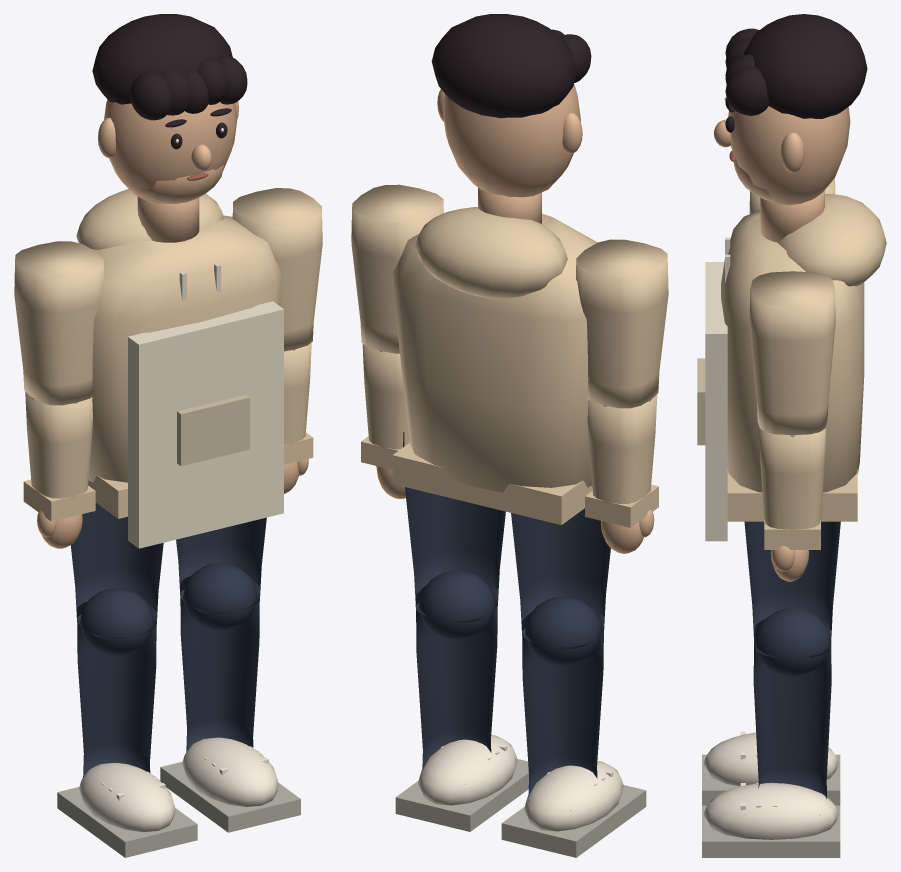
The model's file is employee.glb.
The picture shows the model from 3 angles, left to right: view 1: azimuth 30°, elevation 25°; view 2: azimuth 150°, elevation 25°; view 3: azimuth 270°, elevation 25°; orthographic projection. The views are drawn at different scales.
Parts seen in each view (by area): view 1: Apron, Hoodie, Upper sleeve, Trouser shin.001, Trouser shin, Upper sleeve.001, Head, Hair, Trouser thigh, Lower sleeve, Sneaker.001, Sneaker (+20 smaller); view 2: Hoodie, Upper sleeve, Hair, Hood, Head, Trouser shin, Trouser shin.001, Upper sleeve.001, Trouser thigh, Trouser thigh.001, Lower sleeve, Hoodie hem (+13 smaller); view 3: Hoodie, Upper sleeve.001, Hair, Trouser shin.001, Head, Hood, Sneaker.001, Apron, Trouser thigh.001, Lower sleeve.001, Knee joint.001, Shoe sole.001 (+12 smaller).
Part boxes in pixels (x1,y1,x2,y2): Apron: (128,301,283,548); Hoodie: (88,215,282,482); Upper sleeve: (14,241,104,405); Trouser shin.001: (180,576,259,752); Trouser shin: (77,601,156,777); Upper sleeve.001: (232,188,322,351); Head: (104,99,237,203); Hair: (92,14,232,104); Trouser thigh: (70,503,163,639); Lower sleeve: (25,392,92,499); Sneaker.001: (182,737,278,806); Sneaker: (79,763,175,832); Hoodie: (393,214,597,492); Upper sleeve: (576,239,668,408); Hair: (431,14,576,118); Hood: (415,207,567,298); Head: (442,84,580,197); Trouser shin: (522,610,603,810); Trouser shin.001: (416,584,497,784); Upper sleeve.001: (351,184,443,353); Trouser thigh: (511,508,610,648); Trouser thigh.001: (403,432,505,622); Lower sleeve: (587,394,657,505); Hoodie hem: (392,442,592,524); Hoodie: (721,210,864,492); Upper sleeve.001: (749,271,835,435); Hair: (744,14,867,118); Trouser shin.001: (753,620,831,815); Head: (728,106,850,205); Hood: (778,193,886,286); Sneaker.001: (703,782,838,839); Apron: (705,262,727,541); Trouser thigh.001: (744,521,840,658); Lower sleeve.001: (759,426,826,529); Knee joint.001: (754,608,831,676); Shoe sole.001: (702,805,840,857).
Bounding box in the file's own units: 0.762 × 1.95 × 0.423.
